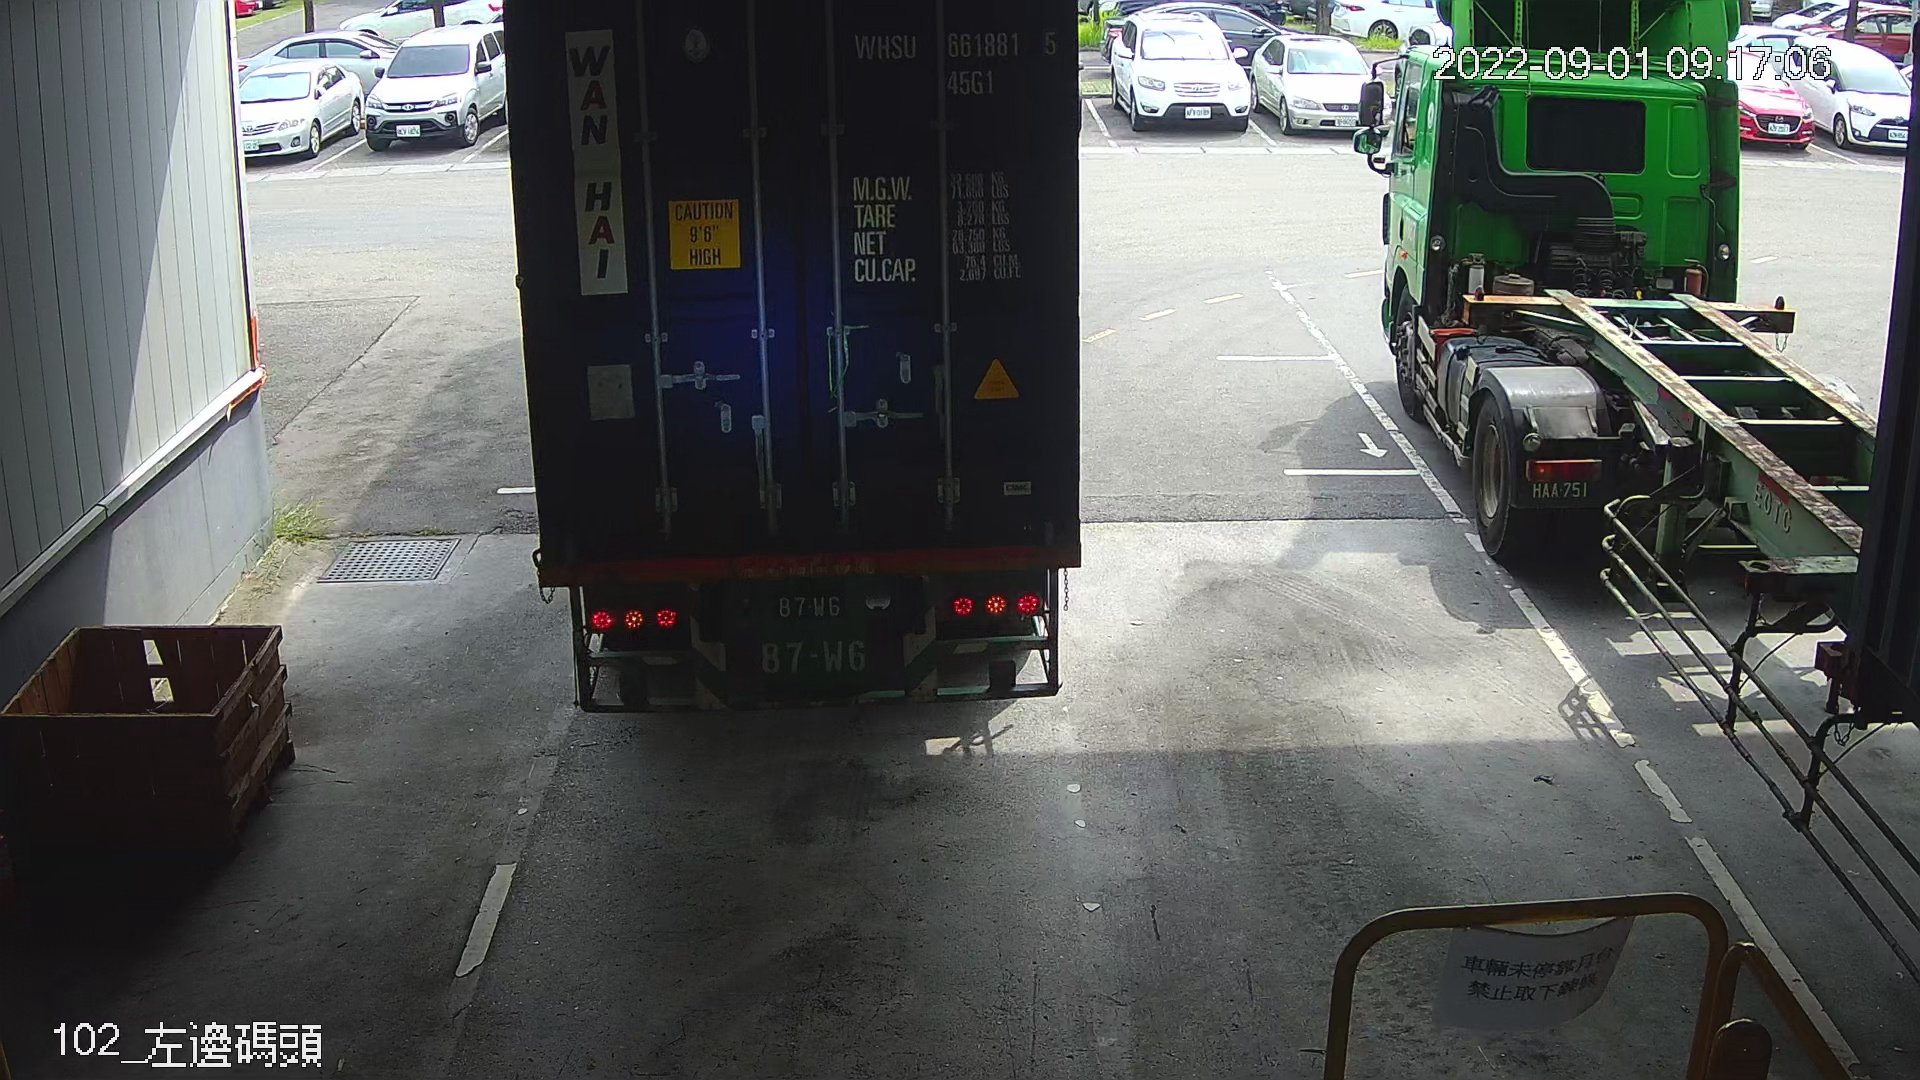container: (847, 22, 1072, 104)
